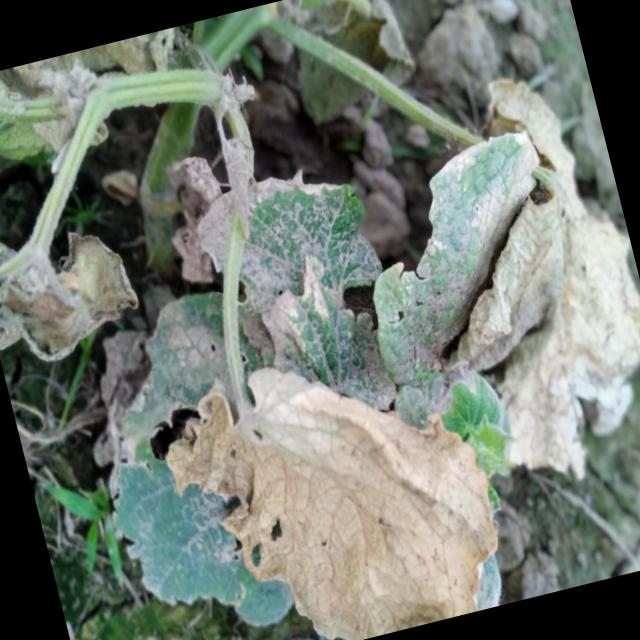cucumber_bacterial: (155, 337, 504, 640), (435, 178, 640, 491), (178, 147, 392, 366), (0, 179, 151, 379)
